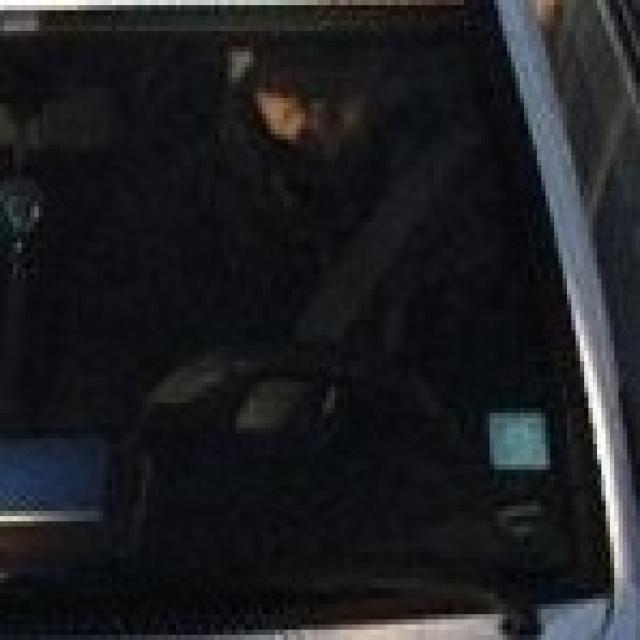seatbelt: (284, 82, 486, 372)
